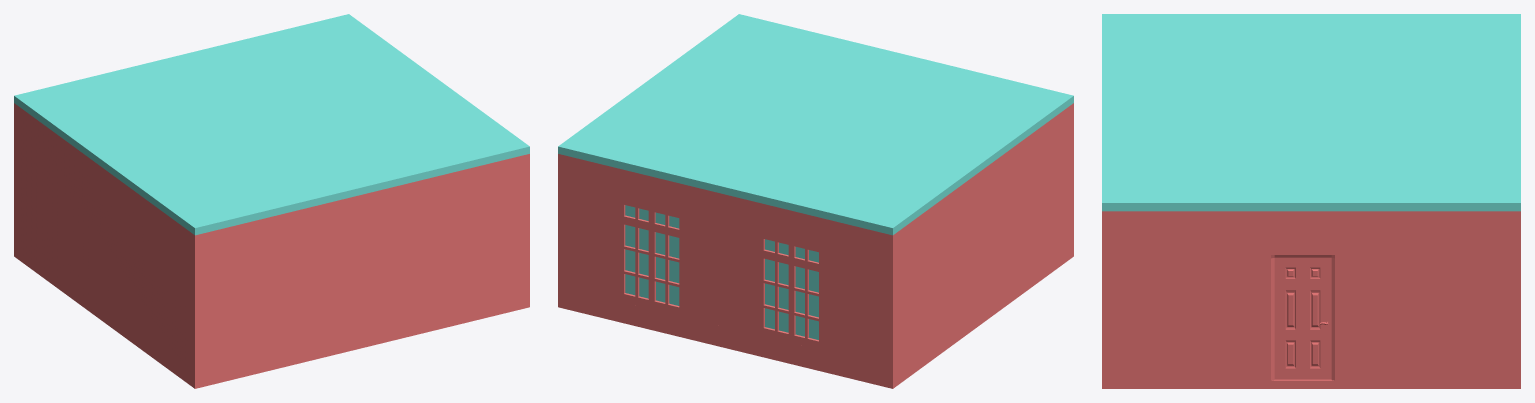
Rendered from room.fbx.
3 views of the same model, side by side, from view 1: azimuth 30°, elevation 25°; view 2: azimuth 150°, elevation 25°; view 3: azimuth 270°, elevation 25° (orthographic). The views are drawn at different scales.
Parts seen in each view (by area): view 1: Room, Roof; view 2: Room, Roof, window, window001; view 3: Roof, Room, door001, frame.
Part boxes in pixels (x1,y1,x2,y2): Room: [14, 103, 529, 388]; Roof: [14, 14, 529, 235]; Room: [558, 103, 1073, 388]; Roof: [558, 14, 1073, 235]; window: [614, 194, 688, 318]; window001: [754, 228, 828, 352]; Roof: [1102, 14, 1520, 211]; Room: [1102, 211, 1520, 388]; door001: [1274, 257, 1331, 379]; frame: [1267, 252, 1338, 380].
Size of the model in its own units: 284 by 130 by 265.
